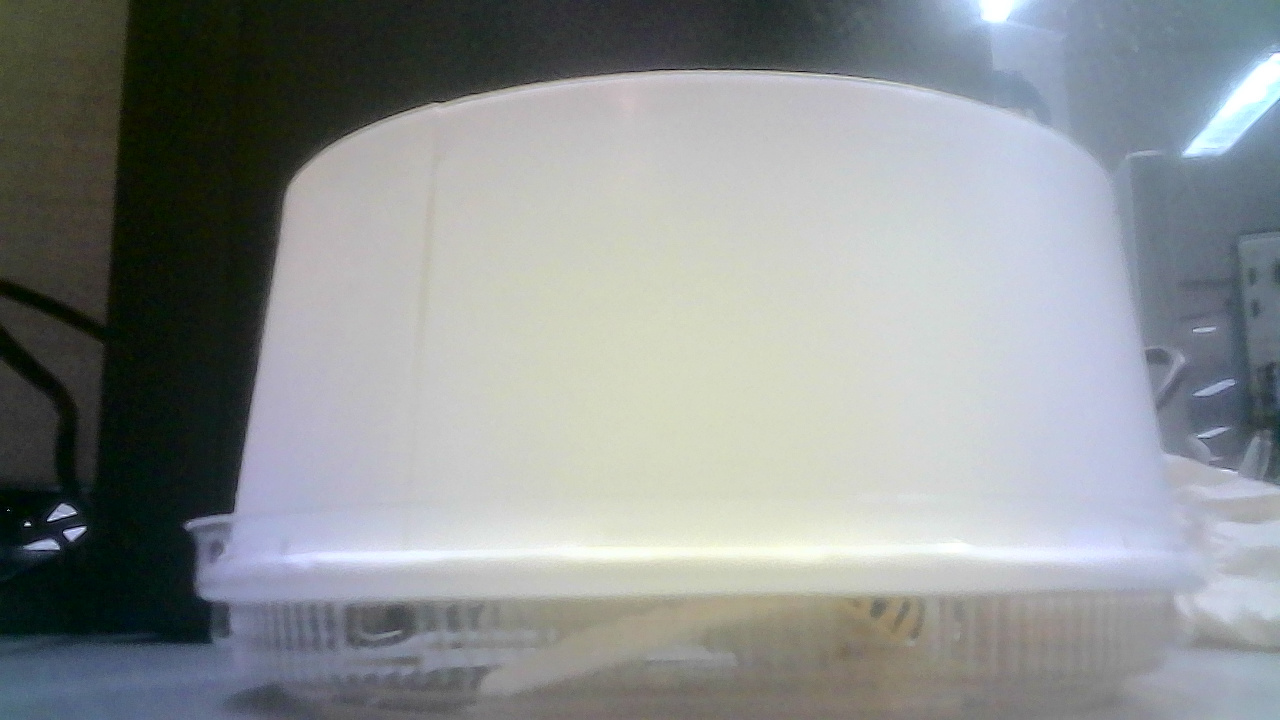Undefined_Waste: (147, 68, 1219, 717)
